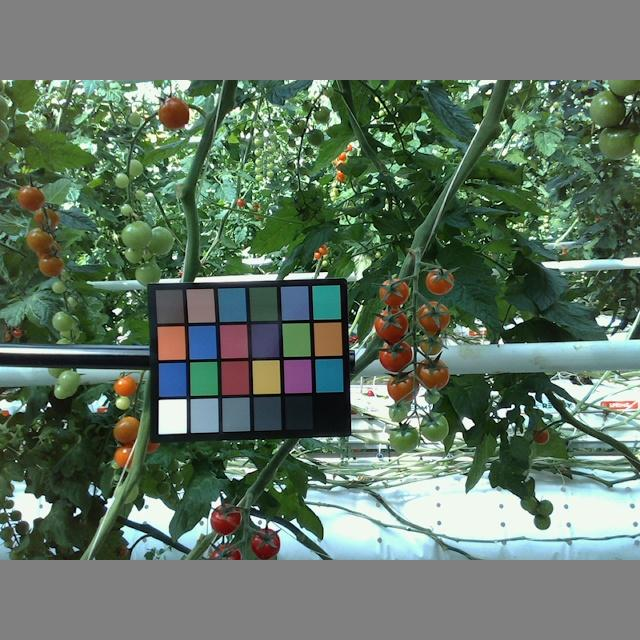green: (590, 88, 628, 125), (595, 128, 636, 157), (120, 218, 152, 249), (416, 413, 453, 436), (135, 262, 161, 289), (386, 402, 416, 420), (152, 227, 173, 252), (392, 430, 417, 450), (56, 369, 80, 387), (53, 313, 76, 330), (424, 391, 445, 405), (48, 283, 70, 296), (56, 388, 78, 399), (128, 161, 145, 175), (120, 250, 145, 259), (113, 174, 126, 186), (119, 203, 132, 215), (133, 192, 147, 200)
pink: (417, 301, 452, 333), (156, 95, 190, 127), (380, 341, 415, 369), (414, 364, 456, 386), (15, 183, 47, 211), (112, 416, 144, 443), (23, 228, 59, 252), (377, 277, 408, 303), (385, 374, 413, 402), (425, 265, 452, 294), (34, 255, 66, 277), (112, 374, 140, 398), (114, 446, 143, 467)
red: (208, 499, 242, 535), (376, 309, 410, 343), (249, 525, 283, 559)
